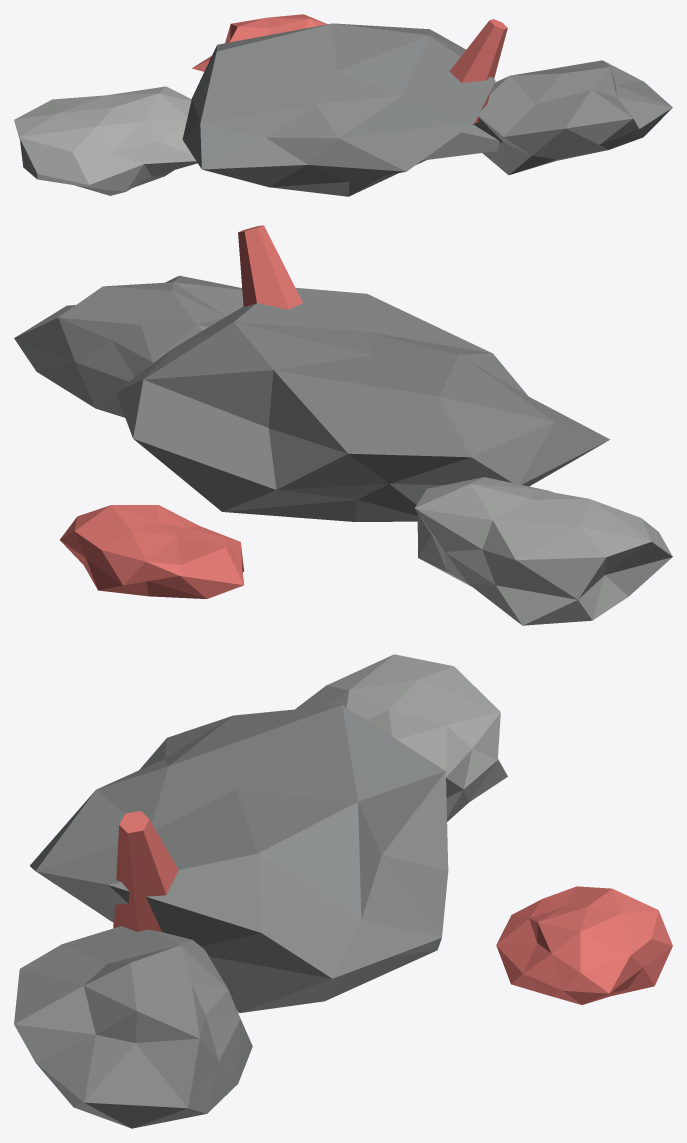
The model's file is t5_ore_depleted.glb.
3 views of the same model, one above another, from view 1: azimuth 30°, elevation 25°; view 2: azimuth 150°, elevation 25°; view 3: azimuth 270°, elevation 25° (orthographic). The views are drawn at different scales.
Visible parts, largest first — view 1: OreRubbleCenter, OreRubbleLeft, OreRubbleRight, SpentOreShard, OreChip; view 2: OreRubbleCenter, OreRubbleLeft, OreRubbleRight, OreChip, SpentOreShard; view 3: OreRubbleCenter, OreRubbleRight, OreChip, OreRubbleLeft, SpentOreShard.
Part boxes in pixels (x1,y1,x2,y2): OreRubbleCenter: (182,23,499,196); OreRubbleLeft: (14,86,197,195); OreRubbleRight: (473,60,672,175); SpentOreShard: (449,19,507,124); OreChip: (192,14,327,71); OreRubbleCenter: (116,287,609,521); OreRubbleLeft: (414,477,672,625); OreRubbleRight: (14,275,243,417); OreChip: (60,505,244,598); SpentOreShard: (238,225,302,309); OreRubbleCenter: (30,705,448,1013); OreRubbleRight: (14,926,252,1128); OreChip: (496,886,672,1004); OreRubbleLeft: (295,654,507,821); SpentOreShard: (114,811,178,931).
Size of the model in its own units: 0.9552 by 0.2367 by 0.6512.
